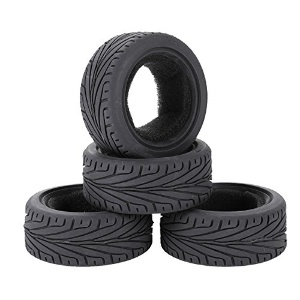train: (75, 25, 209, 152), (161, 175, 288, 264), (79, 133, 217, 212), (22, 183, 158, 263)
